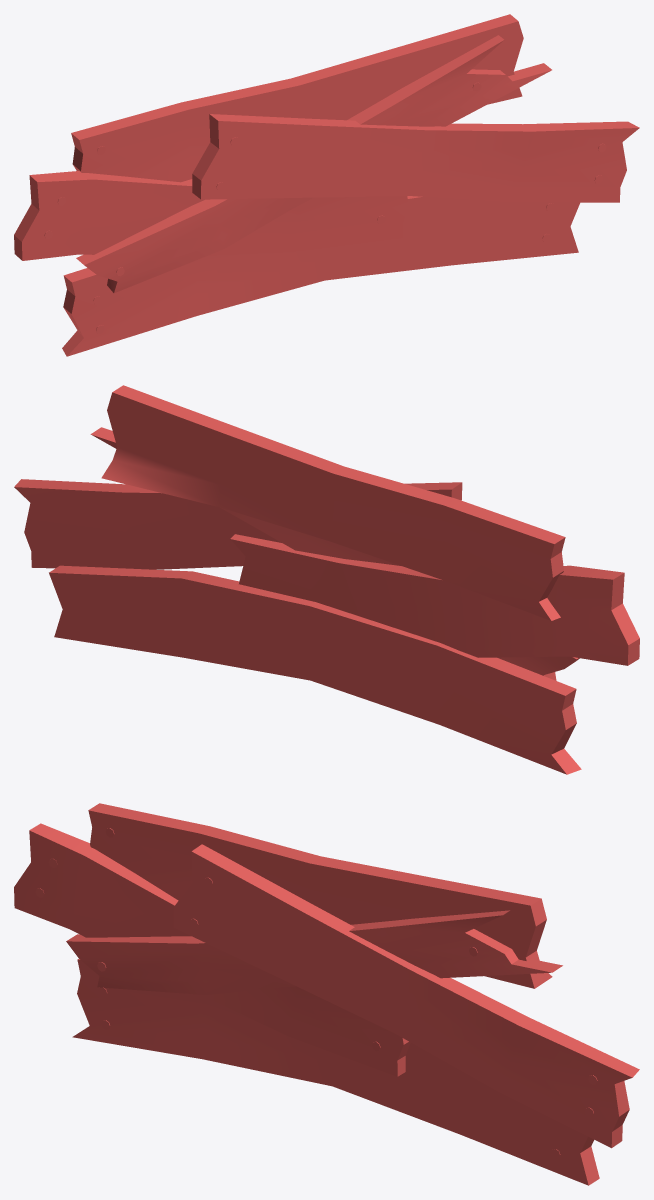
File: WallRunPlanks_A.fbx
3 views of the same model, one above another, from view 1: azimuth 30°, elevation 25°; view 2: azimuth 150°, elevation 25°; view 3: azimuth 330°, elevation 25° (orthographic). The views are drawn at different scales.
Parts seen in each view (by area): view 1: Cube.115; view 2: Cube.115; view 3: Cube.115.
Boxes of the visible parts, <box> form: Cube.115: <box>14,14,639,356</box>; Cube.115: <box>14,385,639,774</box>; Cube.115: <box>14,803,639,1185</box>.
Size of the model in its own units: 1188 by 463 by 130.
